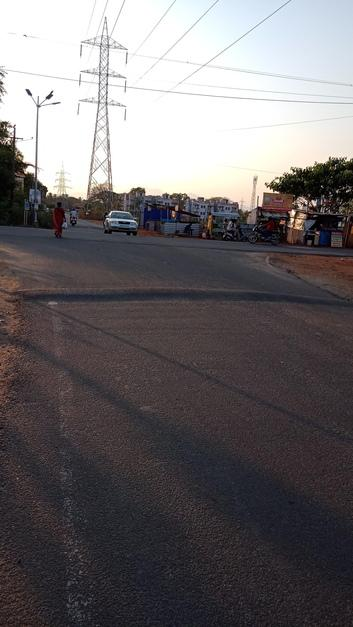speed-bump: (13, 281, 350, 309)
